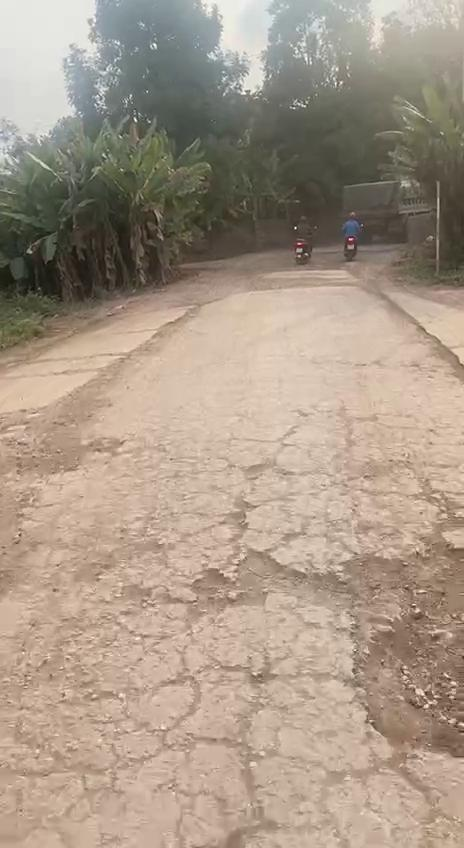pothole: (324, 518, 464, 760), (178, 536, 349, 622)
